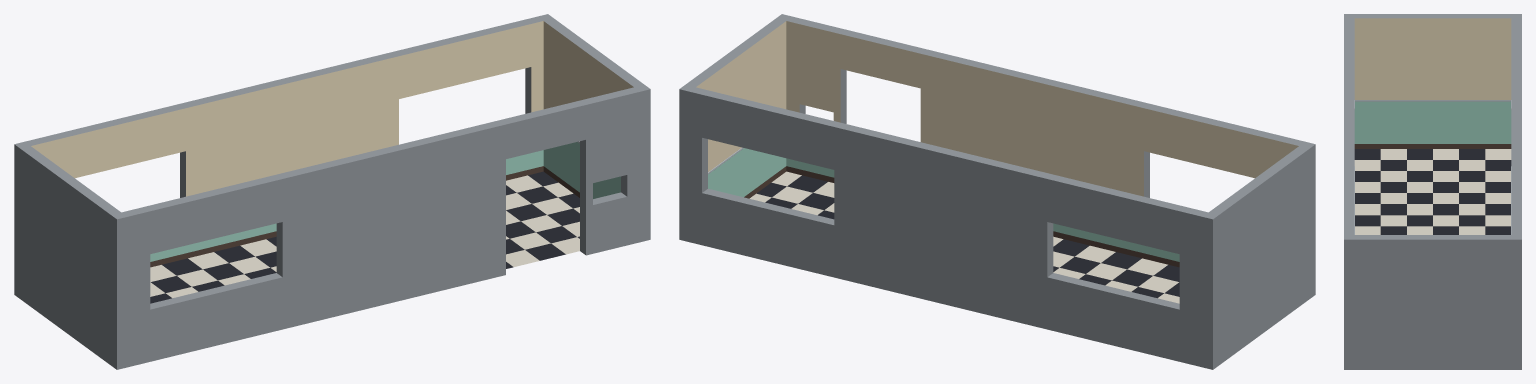
The model's file is ARCH_Kasa.glb.
3 views of the same model, side by side, from view 1: azimuth 30°, elevation 25°; view 2: azimuth 150°, elevation 25°; view 3: azimuth 270°, elevation 25° (orthographic). The views are drawn at different scales.
Parts seen in each view (by area): view 1: Duvar_Guney, Duvar_Kuzey, Duvar_Bati, Zemin, Duvar_Dogu; view 2: Duvar_Kuzey, Duvar_Guney, Duvar_Bati, Duvar_Dogu, Zemin; view 3: Duvar_Dogu, Duvar_Bati, Zemin, Duvar_Kuzey, Duvar_Guney, Bordur.
Boxes of the visible parts, bbox=[...] form: Duvar_Guney: bbox=[111, 85, 650, 369]; Duvar_Kuzey: bbox=[14, 14, 553, 298]; Duvar_Bati: bbox=[20, 146, 120, 365]; Zemin: bbox=[150, 171, 579, 303]; Duvar_Dogu: bbox=[543, 18, 644, 198]; Duvar_Kuzey: bbox=[679, 85, 1218, 369]; Duvar_Guney: bbox=[776, 14, 1315, 298]; Duvar_Bati: bbox=[1209, 146, 1309, 365]; Duvar_Dogu: bbox=[685, 18, 786, 198]; Zemin: bbox=[749, 171, 1179, 303]; Duvar_Dogu: bbox=[1354, 235, 1511, 369]; Duvar_Bati: bbox=[1354, 14, 1511, 148]; Zemin: bbox=[1354, 149, 1511, 234]; Duvar_Kuzey: bbox=[1511, 14, 1521, 369]; Duvar_Guney: bbox=[1344, 14, 1354, 369]; Bordur: bbox=[1354, 100, 1511, 234].
Bounding box in the file's own units: 10.2 × 2.75 × 3.4.
